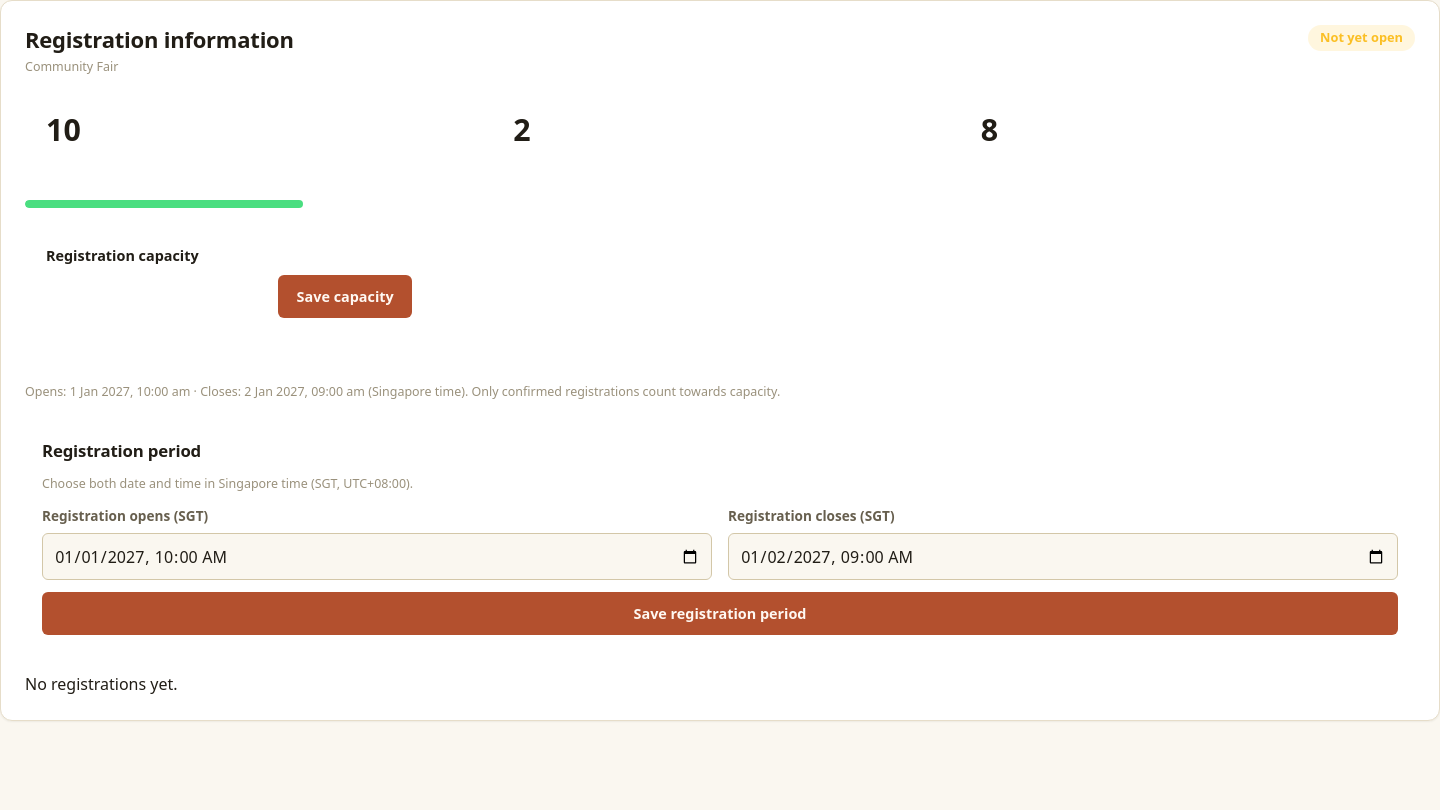
EO12 organiser registration period › EO12 AC2, AC14 (happy): edits date/time in SGT and shows the returned period status after saving
expect the field labelled "Registration closes (SGT)" holds "2027-01-02T09:00": met, box [728,533,1398,580]
Step 1. Replace the text in the field labelled "Registration opens (SGT)" with "2027-01-01T10:15" → coordinates (377, 556), box [42,533,712,580]
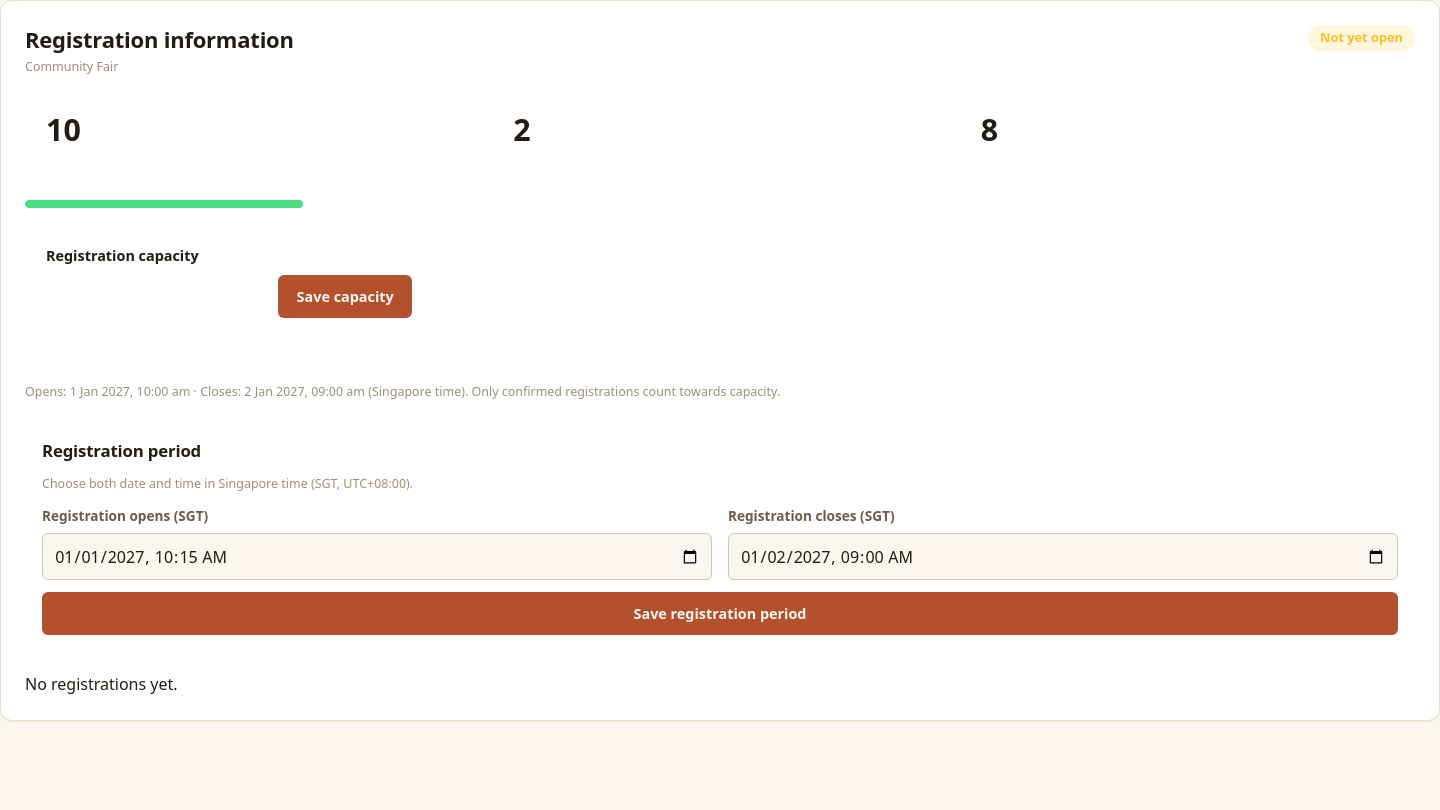
Step 2. Replace the text in the field labelled "Registration closes (SGT)" with "2027-01-02T09:30" → coordinates (1063, 556), box [728,533,1398,580]
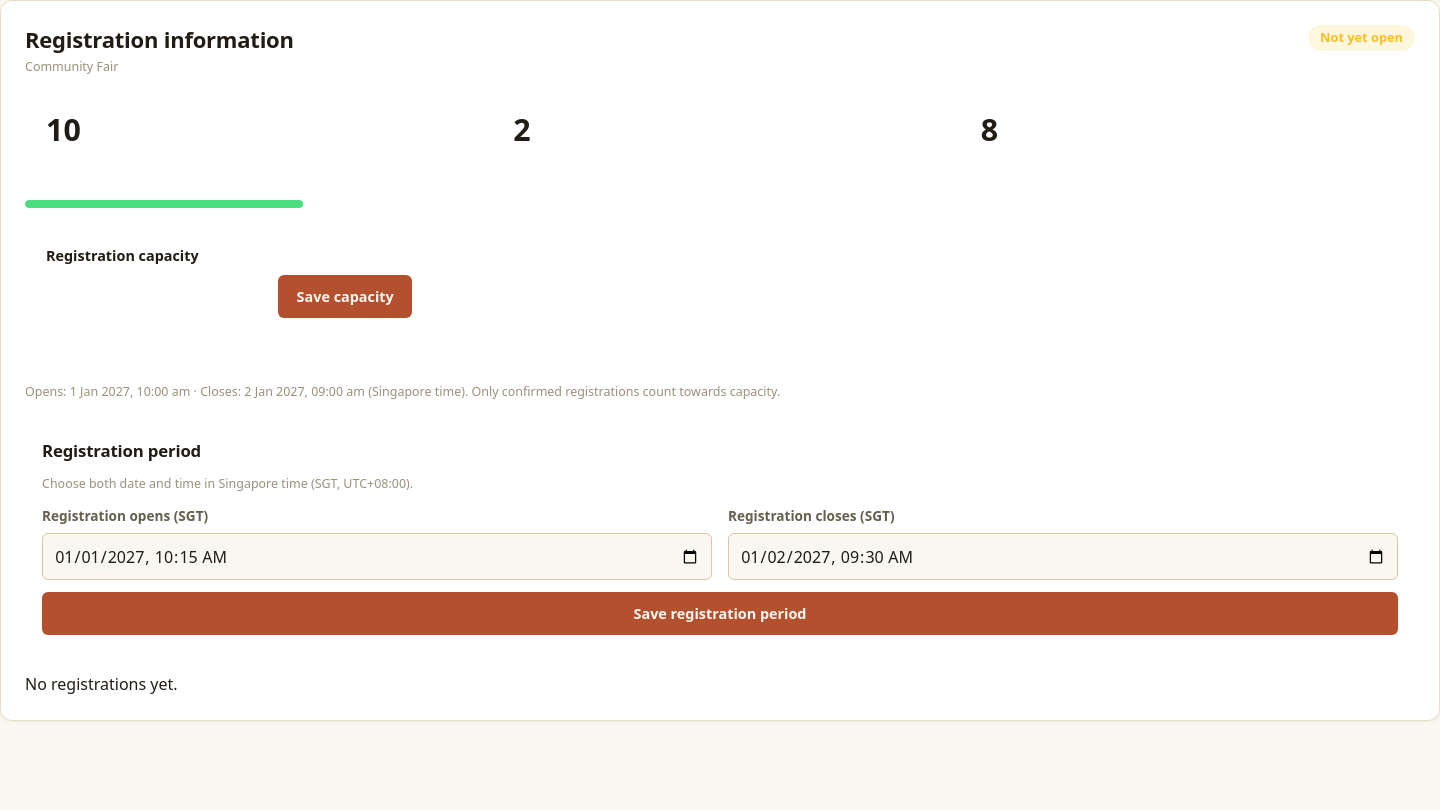
Step 3. Click the button "Save registration period" → coordinates (720, 614), box [42,592,1398,635]
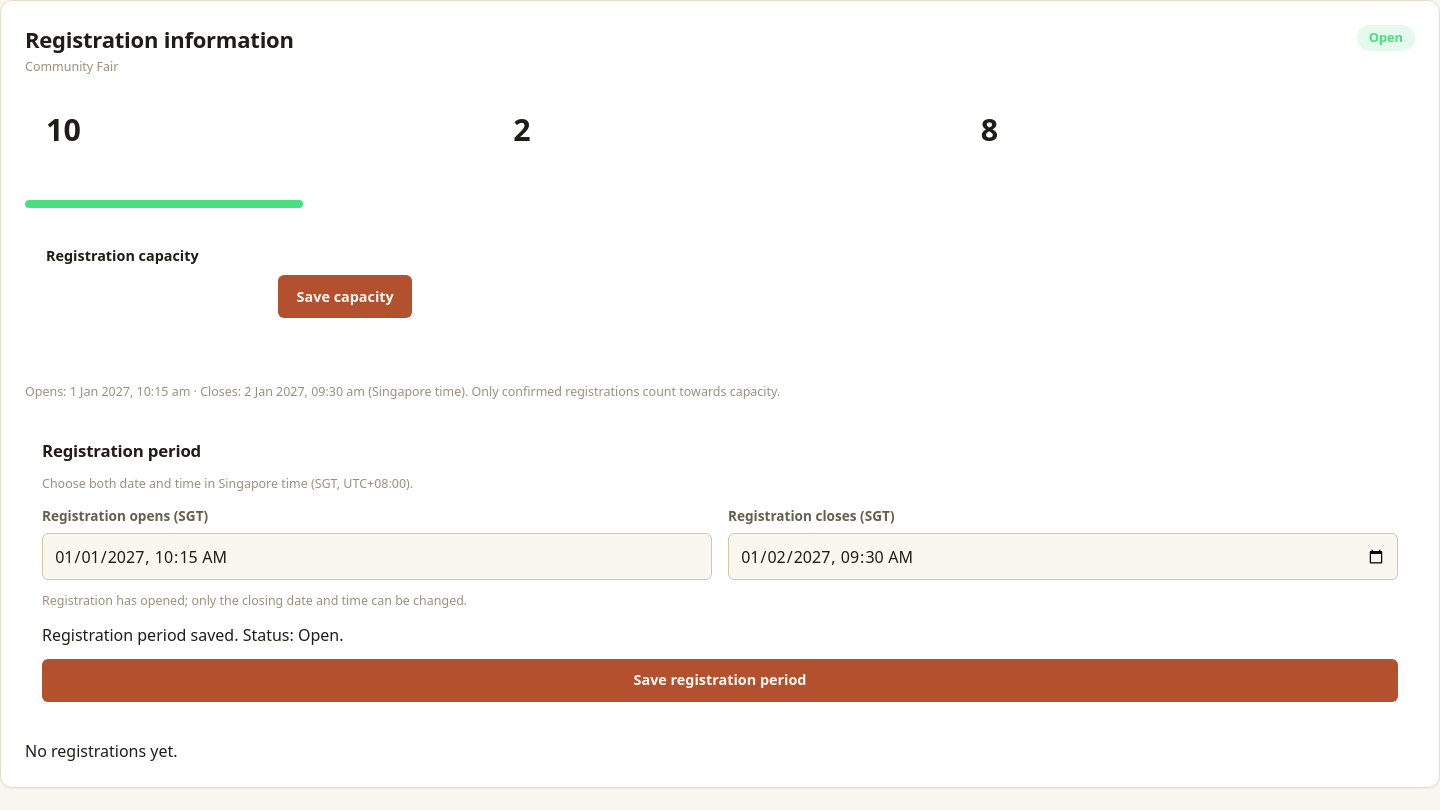
expect the text "Registration period saved. Status: Open." is shown: met, box [42,624,344,646]
